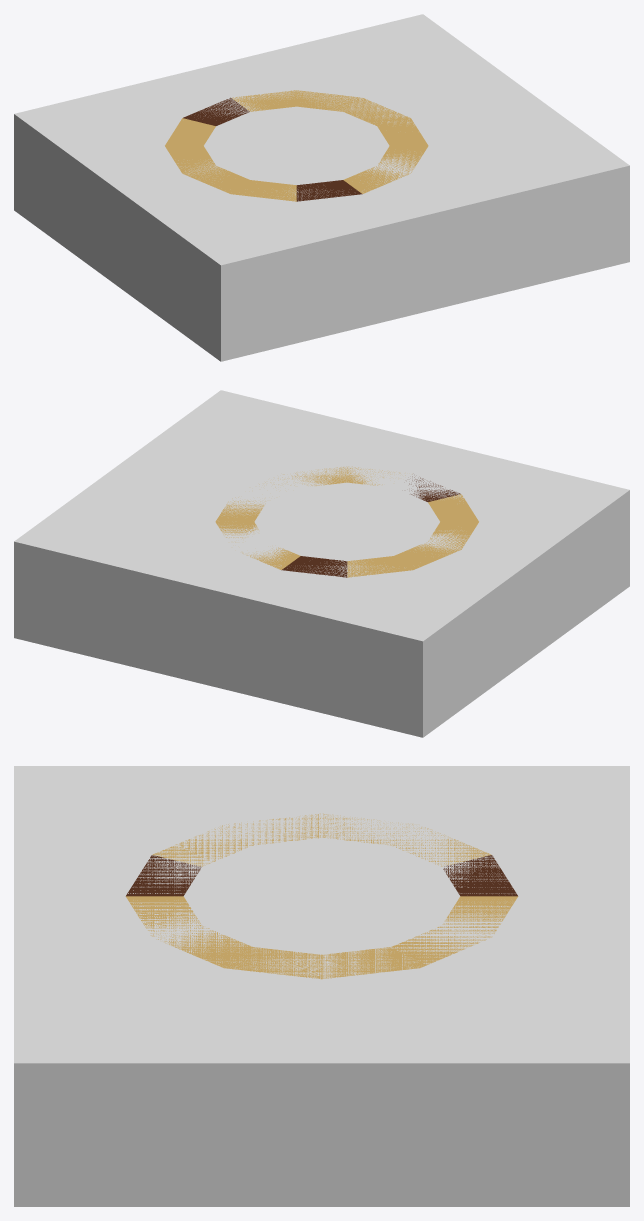
Rendered from prop_rope_coil.glb.
The picture shows the model from 3 angles, top to bottom: view 1: azimuth 30°, elevation 25°; view 2: azimuth 150°, elevation 25°; view 3: azimuth 270°, elevation 25°; orthographic projection. The views are drawn at different scales.
Visible parts, largest first — view 1: prop_rope_coil_col, prop_rope_coil_lod0; view 2: prop_rope_coil_col, prop_rope_coil_lod0; view 3: prop_rope_coil_col, prop_rope_coil_lod0.
Boxes of the visible parts, bbox=[...] form: prop_rope_coil_col: bbox=[14, 14, 629, 361]; prop_rope_coil_lod0: bbox=[165, 90, 428, 201]; prop_rope_coil_col: bbox=[14, 390, 629, 737]; prop_rope_coil_lod0: bbox=[215, 466, 478, 577]; prop_rope_coil_col: bbox=[14, 766, 629, 1206]; prop_rope_coil_lod0: bbox=[125, 813, 518, 979].
Size of the model in its own units: 1.26 by 0.284 by 1.1.
